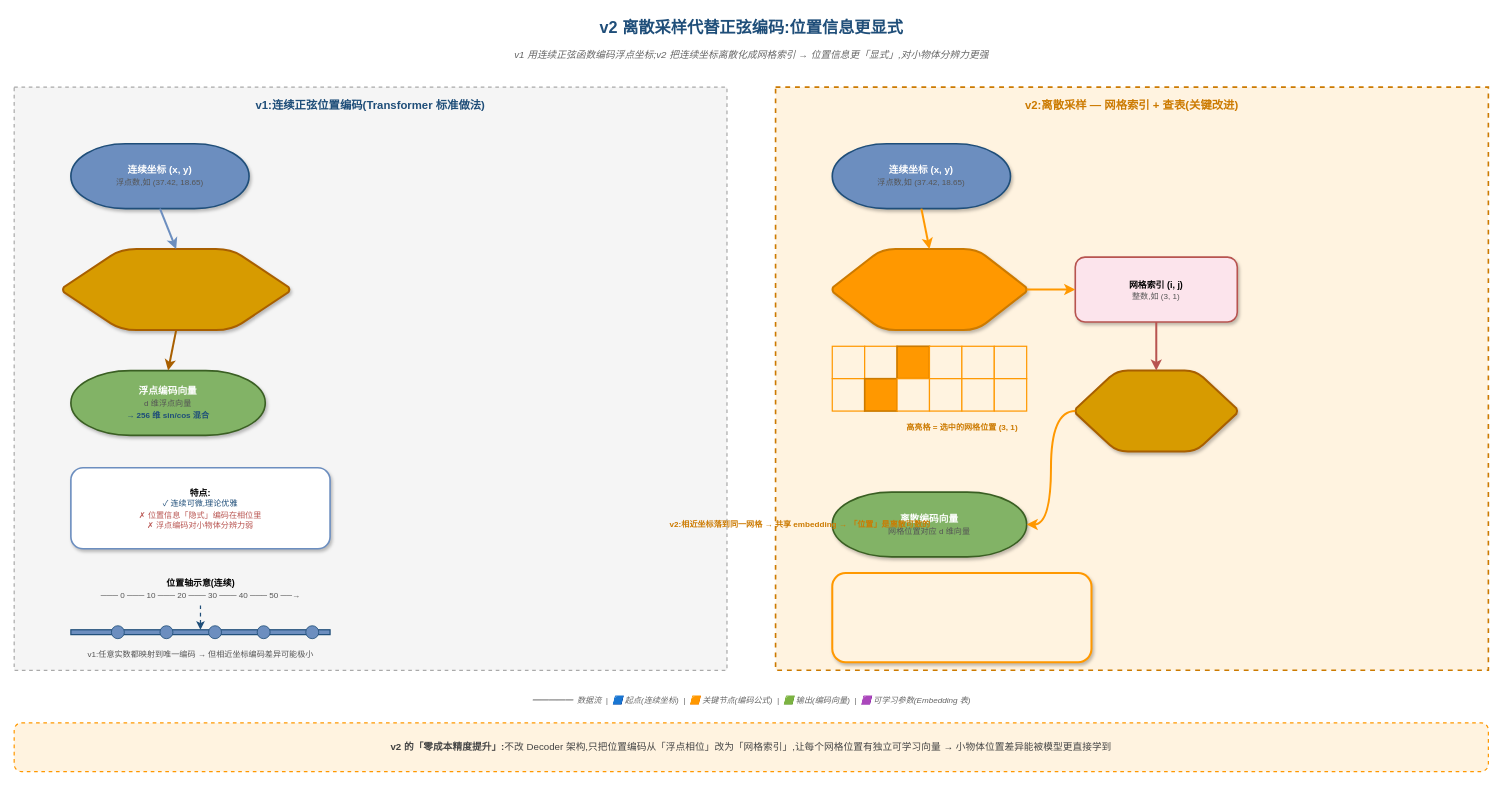
This 1503x786 diagram has some shape labels left out. Here are the shapes that lost their labels. From the top down, the centre of each, then its label:
At point (176, 290): "正弦公式编码 PE(x, 2i) = sin(x / 10000^(2i/d)) PE(x, 2i+1) = cos(x / 10000^(2i/d))".
At point (930, 290): "离散化:round(x / stride) 连续坐标 → 整数网格索引".
At point (1157, 412): "Embedding 查表 可学习的 N × d 矩阵".
At point (962, 618): "特点(DDS 关键改进): ✓ 位置信息「显式」映射到网格 ✓ 小物体位置分辨力强 ✓ 与 CNN anchor 思想接轨".
